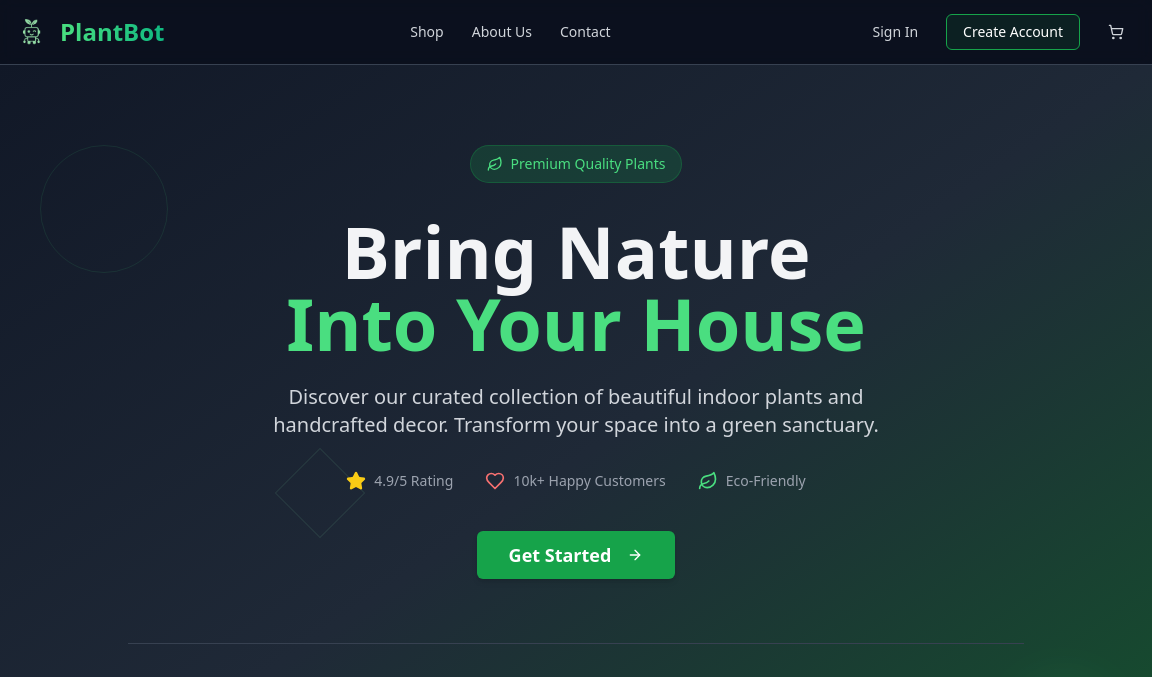
PlantBot sign up Test cases › TC-24: Validate to check if error message is displayed when phone number field is empty during sign up
Click the button with test id "get-started-btn" at x=577, y=555, box 477,531 -> 676,579
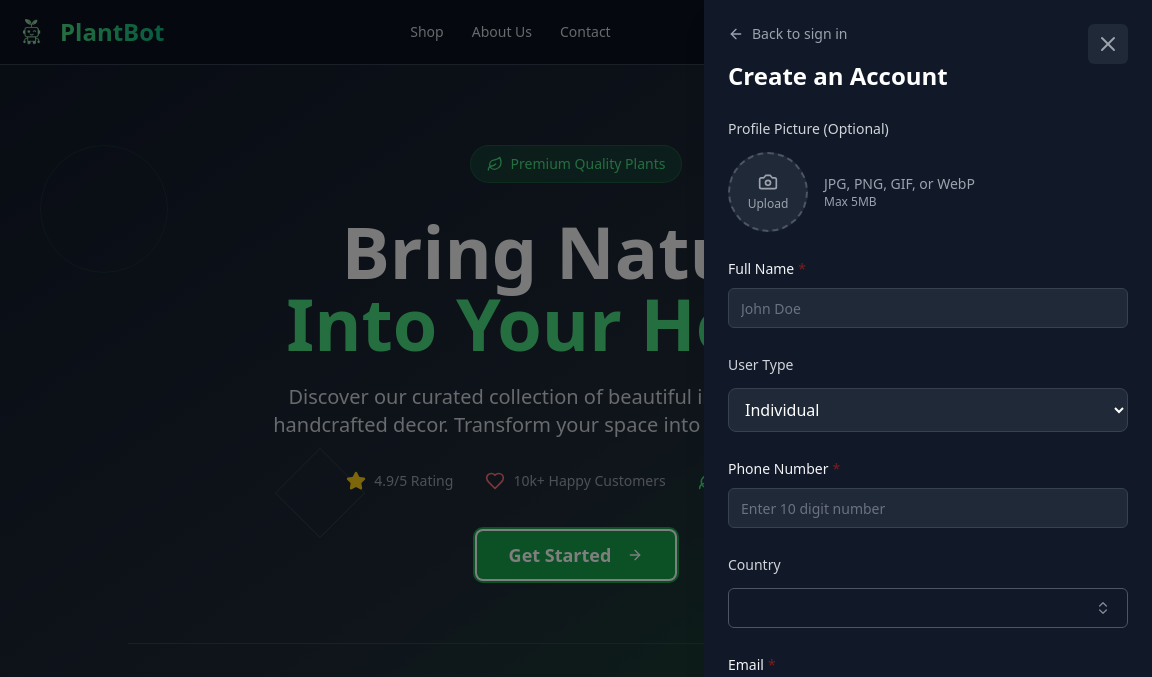
Type "John Paul" into the field named "fullName" at x=928, y=308, box 728,288 -> 1128,328
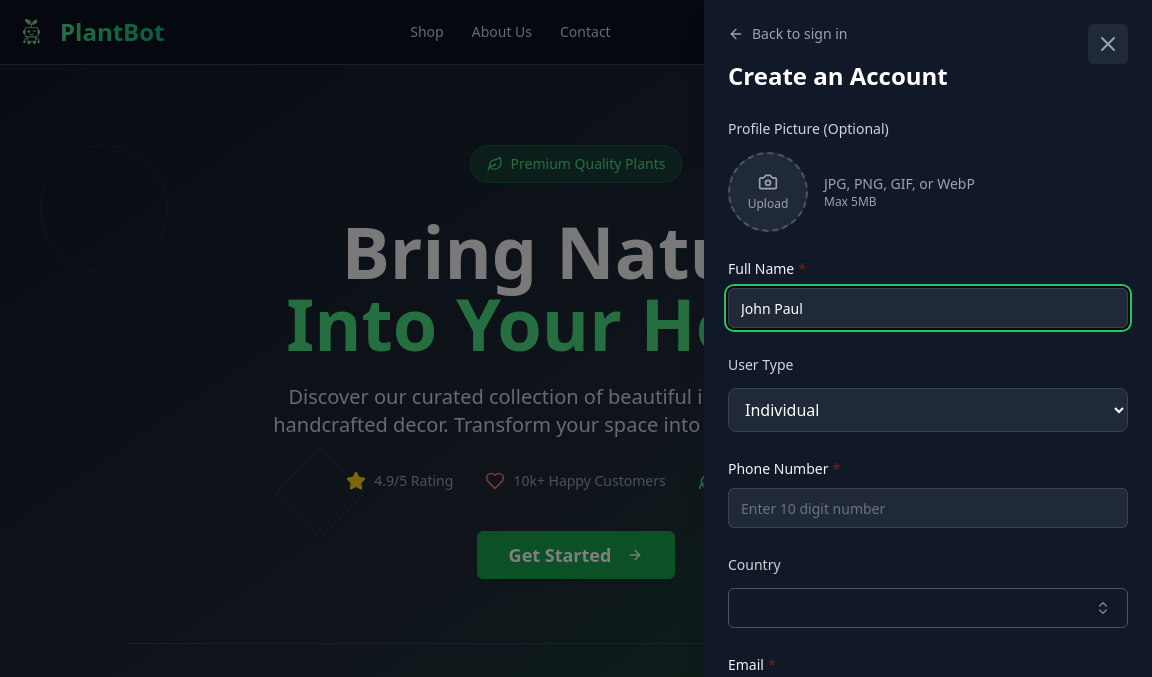
Select "Business" in the dropdown below "User Type" at x=928, y=410, box 728,388 -> 1128,432
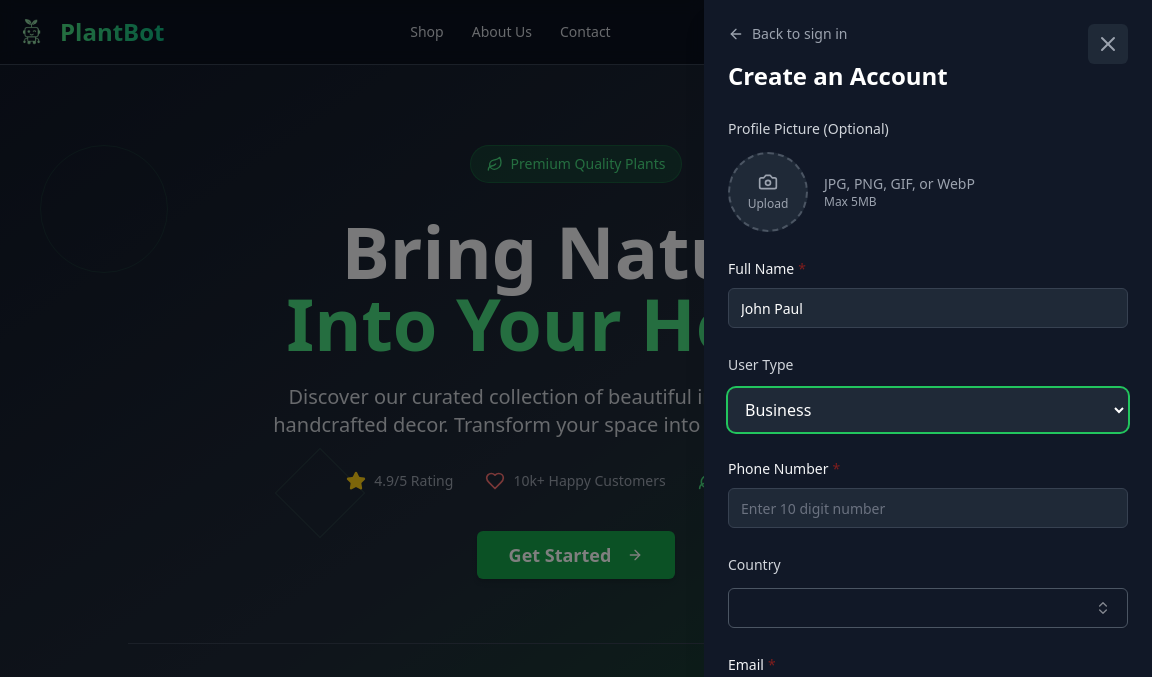
Scroll
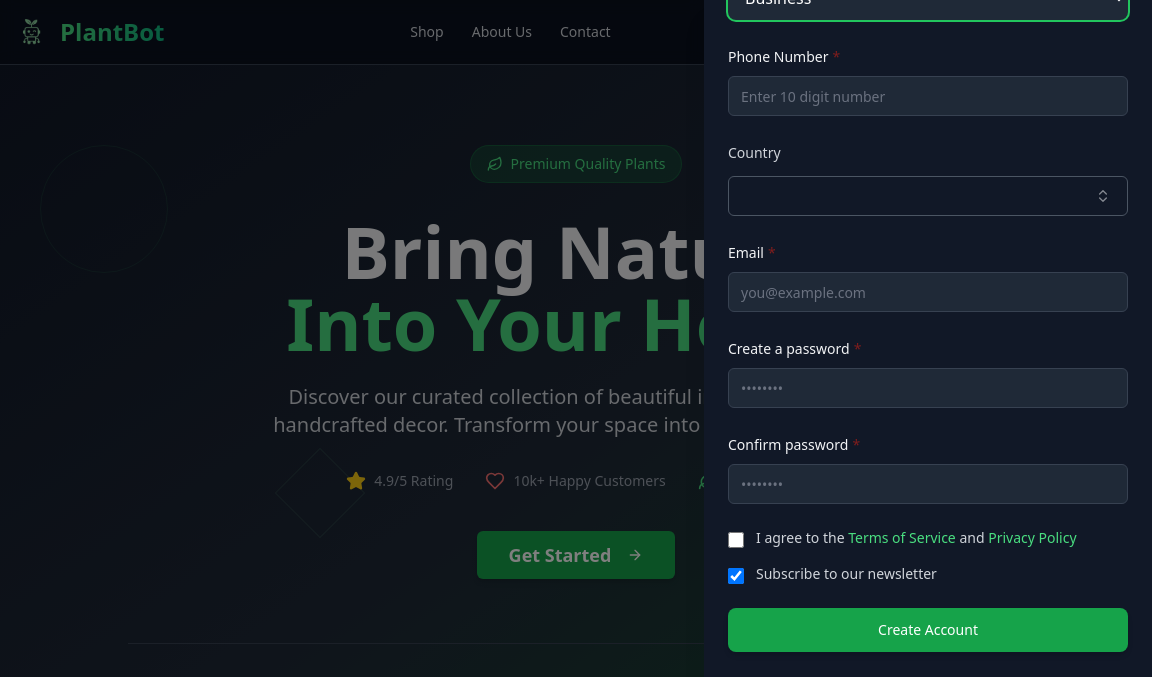
Click the button "Create Account" at x=928, y=630, box 728,608 -> 1128,652
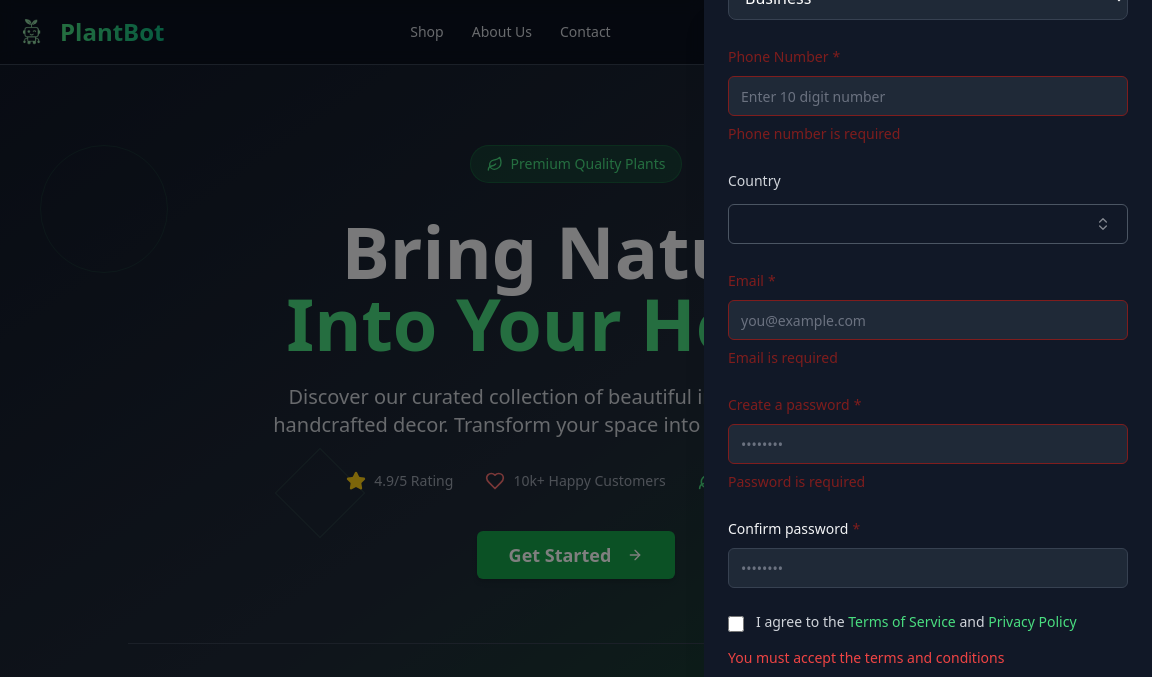
Expected: the text "Phone number is required" is shown, 728,124 -> 900,143
